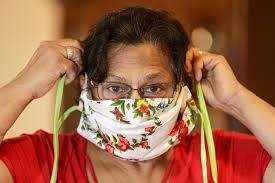with-mask: (65, 7, 205, 166)
